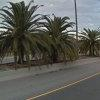Palm tree: (3, 0, 73, 67)
